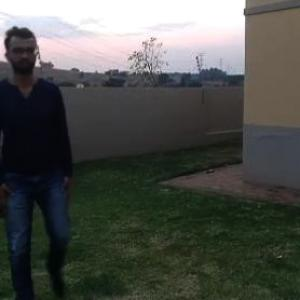follow: (2, 23, 84, 299)
